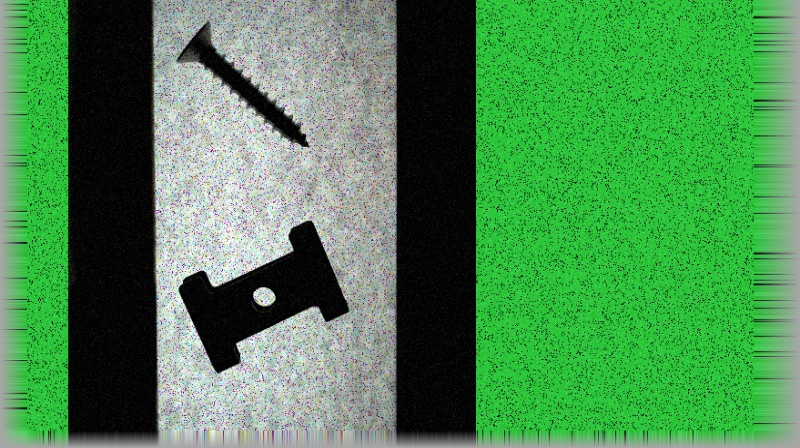O002: (178, 217, 350, 375)
S001: (173, 19, 312, 152)
